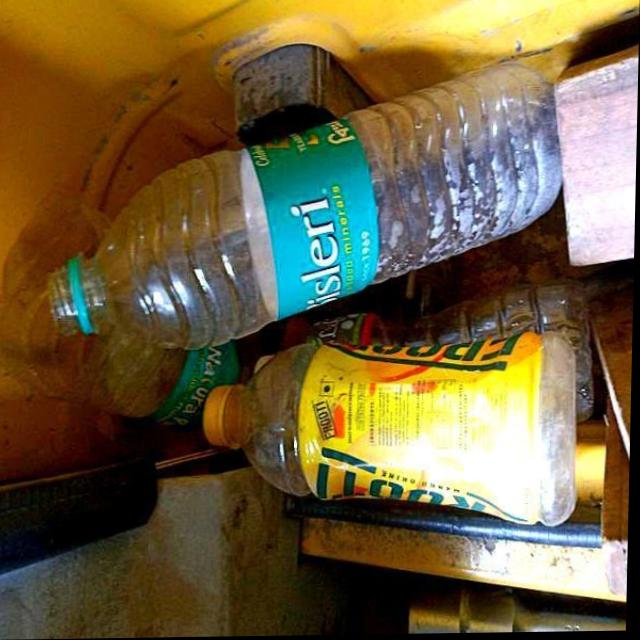Non-biodegradable: (55, 62, 562, 349), (202, 341, 588, 532)
